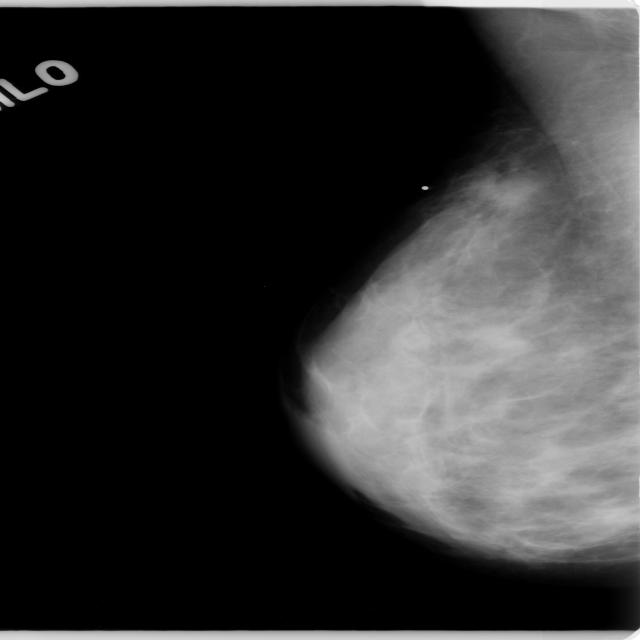normal: (252, 28, 640, 588)
